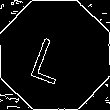L_N: (32, 26, 78, 84)
